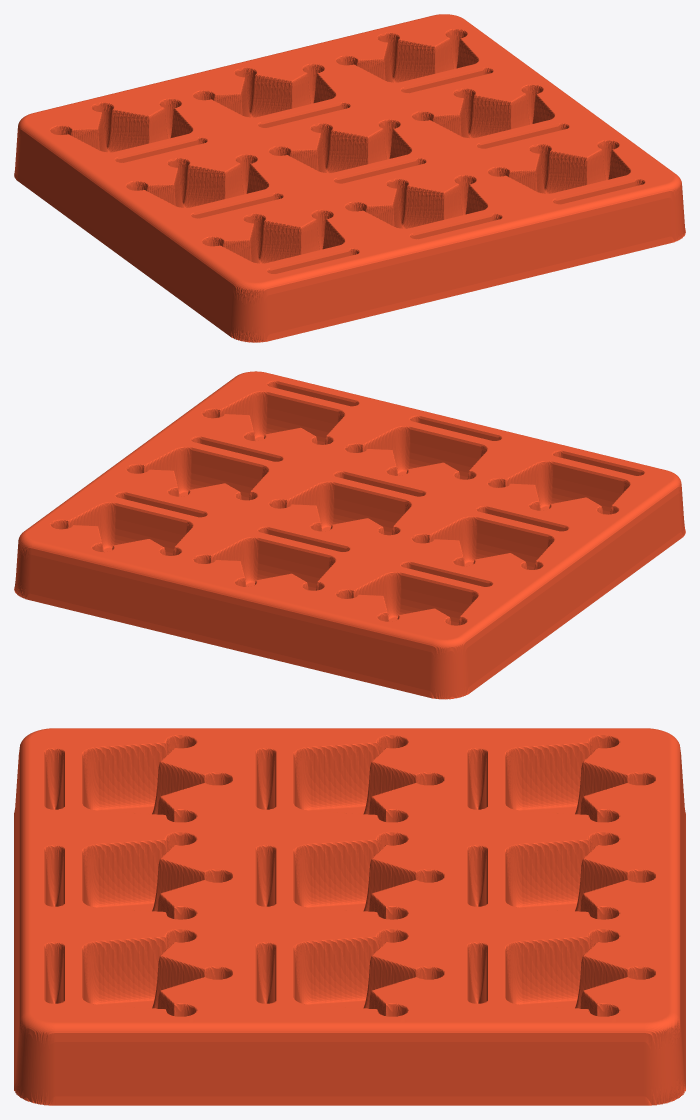
File: mold.glb
3 renders of one model, top to bottom at view 1: azimuth 30°, elevation 25°; view 2: azimuth 150°, elevation 25°; view 3: azimuth 270°, elevation 25°, orthographic. The views are drawn at different scales.
Parts seen in each view (by area): view 1: geometry_0; view 2: geometry_0; view 3: geometry_0.
Boxes of the visible parts, x1,y1,x2,y2 form: geometry_0: [14, 14, 685, 342]; geometry_0: [14, 371, 685, 699]; geometry_0: [14, 728, 685, 1105].
Bounding box in the file's own units: 0.1595 × 0.0185 × 0.1475.
